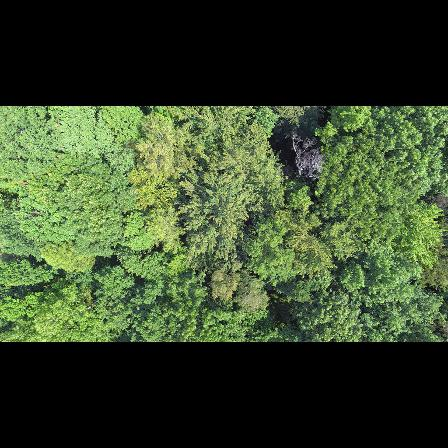Dead: (289, 131, 328, 182)
